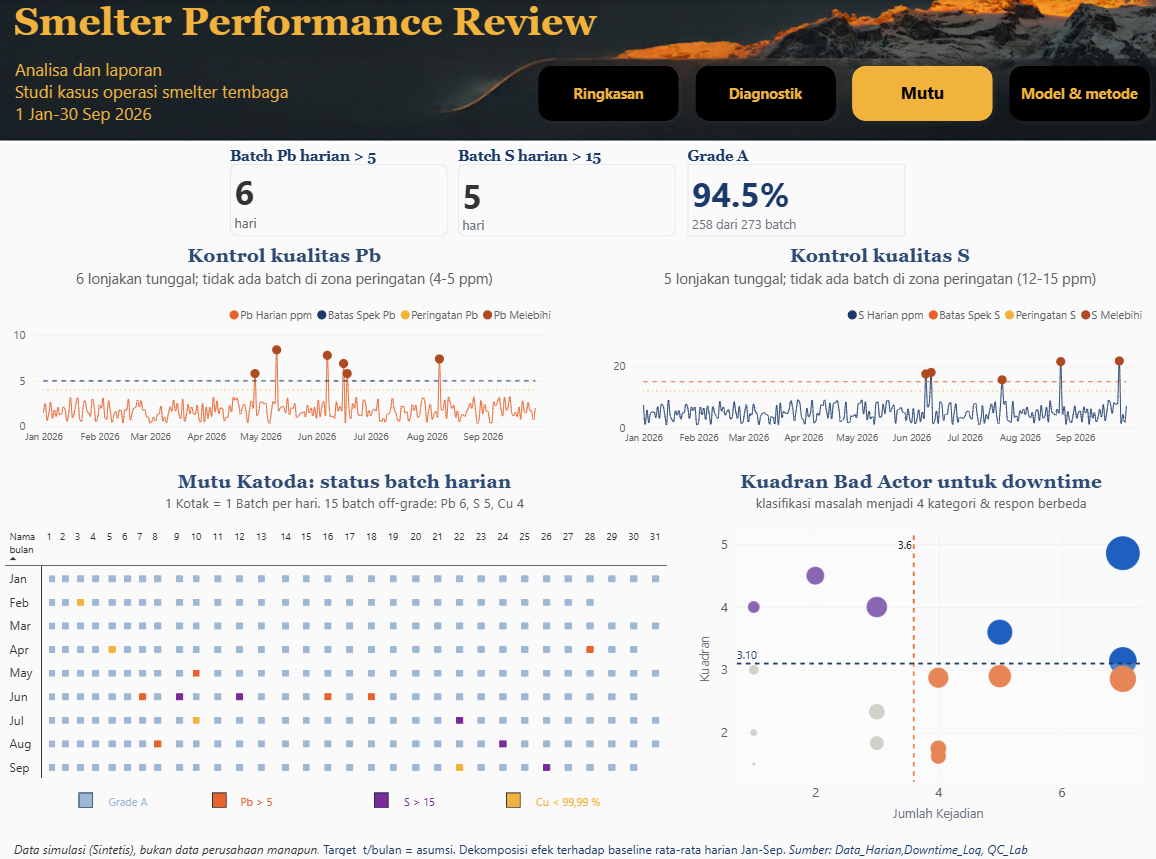

This screenshot's page, from the dashboard's own definition file:
{"tool":"powerbi","page":{"name":"Mutu","canvas":[1280,960],"ordinal":2},"visuals":[{"type":"image","box":[0,0,1280,160],"z":0},{"type":"textbox","title":"text box judul","box":[16,0,672,64],"z":0,"group":"g5"},{"type":"lineChart","title":"Kontrol kualitas Pb","fields":{"Category":["Dim_Tanggal.Date"],"Y":["_Ukuran.Pb Harian ppm","_Ukuran.Batas Spek Pb","_Ukuran.Peringatan Pb","_Ukuran.Pb Melebihi"]},"box":[0,256,629,253.9],"z":0,"group":"g4"},{"type":"pivotTable","title":"Mutu Katoda: status batch harian","fields":{"Columns":["Dim_Tanggal.Hari"],"Rows":["Dim_Tanggal.Nama_Bulan"],"Values":["QC_Lab.Waffle SVG"]},"box":[7,519.9,748.4,403.1],"z":0,"group":"g3"},{"type":"textbox","title":"Text box subjudul","box":[16,64,320,96],"z":1000,"group":"g5"},{"type":"lineChart","title":"Kontrol kualitas S","fields":{"Category":["Dim_Tanggal.Date"],"Y":["_Ukuran.S Harian ppm","_Ukuran.Batas Spek S","_Ukuran.Peringatan S","_Ukuran.S Melebihi"]},"box":[660.7,256.2,619.3,255.8],"z":1000,"group":"g4"},{"type":"shape","title":"grade A shape","box":[87.9,874.8,16.3,17],"z":1000,"group":"g3"},{"type":"textbox","title":"Text box bawah","box":[16,928,1248,32],"z":1000},{"type":"group","id":"g1","title":"Group 2","box":[16,0,1261.5,160],"z":2000},{"type":"shape","title":"Pb shape","box":[234.4,874.8,16.3,17],"z":2000,"group":"g3"},{"type":"group","id":"g2","title":"Group 1","box":[7,519.9,1271,403.1],"z":3000},{"type":"group","id":"g3","title":"mutu katoda group","box":[7,519.9,748.4,403.1],"z":3000,"group":"g2"},{"type":"shape","title":"S Shape","box":[413.5,874.8,16.3,17],"z":3000,"group":"g3"},{"type":"pageNavigator","title":"page halaman","box":[584.7,64.5,692.7,79.4],"z":4000,"group":"g1"},{"type":"group","id":"g4","title":"Group 1","box":[0,256,1280,256],"z":4000},{"type":"scatterChart","title":"Kuadran Bad Actor untuk downtime","fields":{"Category":["Downtime_Log.Penyebab"],"Size":["_Ukuran.Total Jam Downtime"],"X":["_Ukuran.Jumlah Kejadian"],"Y":["_Ukuran.MTTR Jam"]},"box":[756.1,520.1,521.9,402.5],"z":4000,"group":"g2"},{"type":"shape","title":"Cu shape","box":[560,874.8,16.3,17],"z":4000,"group":"g3"},{"type":"cardVisual","title":"Batch Pb harian > 5","fields":{"Data":["_Ukuran.Batch Pb Melebihi"]},"box":[254.2,163.8,240,98],"z":5000},{"type":"textbox","title":"Grade A Text box","box":[120.5,874.8,81.4,33.9],"z":5000,"group":"g3"},{"type":"cardVisual","title":"Batch S harian > 15","fields":{"Data":["_Ukuran.Batch S Melebihi"]},"box":[506,163.8,240,98],"z":6000},{"type":"textbox","title":"Pb Text box","box":[267,874.8,48.8,33.9],"z":6000,"group":"g3"},{"type":"cardVisual","title":"Grade A","fields":{"Data":["Data_Harian.Grade A %"]},"box":[759,163.8,240,98],"z":7000},{"type":"textbox","title":"S Text box","box":[446,874.8,48.8,33.9],"z":7000,"group":"g3"},{"type":"textbox","title":"Cu Text box","box":[592.5,874.8,97.7,33.9],"z":8000,"group":"g3"},{"type":"group","id":"g5","title":"judul sub judul","box":[16,0,672,160],"z":14000,"group":"g1"}]}

Visuals, with their boxes in screenshot pixels (x1, y1, x2, y2), scaled from the page's 1280x960 canvas onto the 1156x859 screenshot:
image: box(0, 0, 1155, 143)
"text box judul" textbox: box(14, 0, 621, 57)
"Kontrol kualitas Pb" lineChart: box(0, 229, 568, 456)
"Mutu Katoda: status batch harian" pivotTable: box(6, 465, 682, 826)
"Text box subjudul" textbox: box(14, 57, 303, 143)
"Kontrol kualitas S" lineChart: box(597, 229, 1155, 458)
"grade A shape" shape: box(79, 783, 94, 798)
"Text box bawah" textbox: box(14, 830, 1142, 858)
"Group 2" group: box(14, 0, 1154, 143)
"Pb shape" shape: box(212, 783, 226, 798)
"Group 1" group: box(6, 465, 1154, 826)
"mutu katoda group" group: box(6, 465, 682, 826)
"S Shape" shape: box(373, 783, 388, 798)
"page halaman" pageNavigator: box(528, 58, 1154, 129)
"Group 1" group: box(0, 229, 1155, 458)
"Kuadran Bad Actor untuk downtime" scatterChart: box(683, 465, 1154, 826)
"Cu shape" shape: box(506, 783, 520, 798)
"Batch Pb harian > 5" cardVisual: box(230, 147, 446, 234)
"Grade A Text box" textbox: box(109, 783, 182, 813)
"Batch S harian > 15" cardVisual: box(457, 147, 674, 234)
"Pb Text box" textbox: box(241, 783, 285, 813)
"Grade A" cardVisual: box(685, 147, 902, 234)
"S Text box" textbox: box(403, 783, 447, 813)
"Cu Text box" textbox: box(535, 783, 623, 813)
"judul sub judul" group: box(14, 0, 621, 143)
